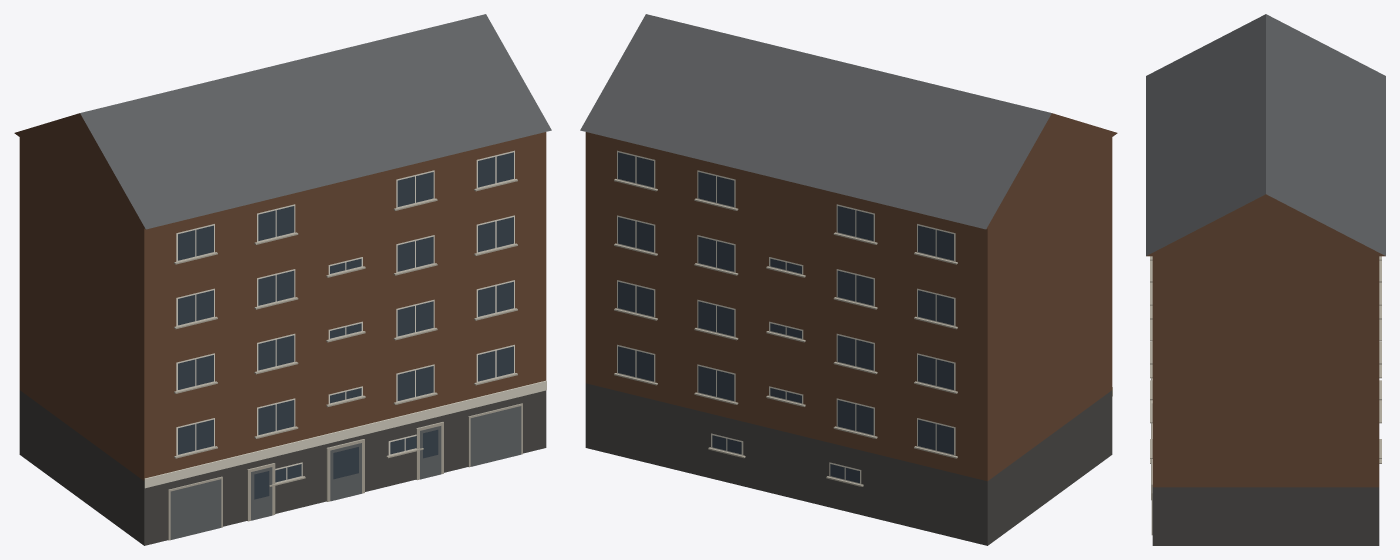
File: nw-slit-window-garage-5st__dark-glass-entry__5__gable__long__solid.glb
The picture shows the model from 3 angles, left to right: view 1: azimuth 30°, elevation 25°; view 2: azimuth 150°, elevation 25°; view 3: azimuth 270°, elevation 25°; orthographic projection. The views are drawn at different scales.
Visible parts, largest first — view 1: nw-slit-window-garage-5st__dark-glass-entry__5__gable__long_; view 2: nw-slit-window-garage-5st__dark-glass-entry__5__gable__long_; view 3: nw-slit-window-garage-5st__dark-glass-entry__5__gable__long_.
Part boxes in pixels (box(x1,y1,x2,y2)): nw-slit-window-garage-5st__dark-glass-entry__5__gable__long_: box(14, 14, 551, 545); nw-slit-window-garage-5st__dark-glass-entry__5__gable__long_: box(580, 14, 1117, 545); nw-slit-window-garage-5st__dark-glass-entry__5__gable__long_: box(1146, 14, 1385, 545).
Bounding box in the file's own units: 19.2 × 17.52 × 10.8.
